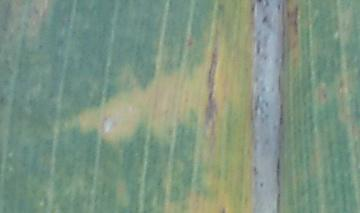tarspot: (255, 37, 261, 56), (260, 14, 268, 25), (257, 180, 265, 190), (262, 1, 271, 9), (219, 205, 227, 213), (276, 2, 282, 11), (256, 1, 262, 4)
